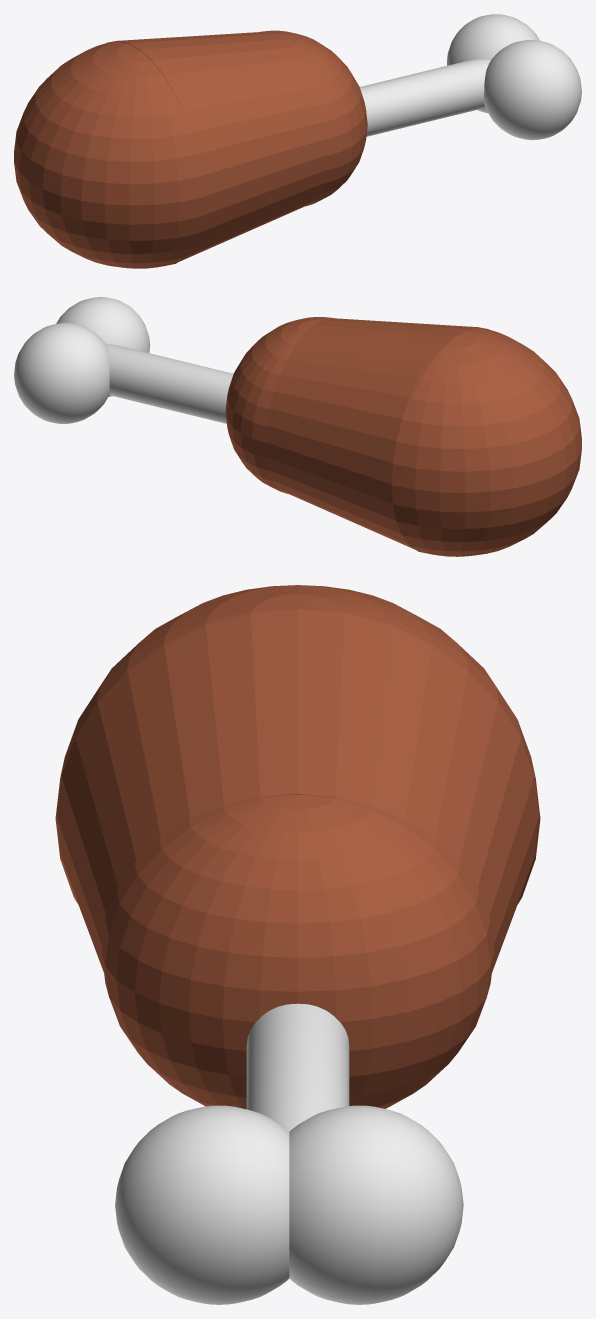
The model's file is Chicken wing.fbx.
The picture shows the model from 3 angles, top to bottom: view 1: azimuth 30°, elevation 25°; view 2: azimuth 150°, elevation 25°; view 3: azimuth 270°, elevation 25°; orthographic projection. The views are drawn at different scales.
Parts seen in each view (by area): view 1: Sphere.003, Cylinder.001, Sphere, Sphere.002, Cylinder, Sphere.001; view 2: Sphere.003, Cylinder.001, Sphere.001, Sphere.002, Cylinder, Sphere; view 3: Cylinder.001, Sphere.002, Sphere, Sphere.001, Cylinder, Sphere.003.
Part boxes in pixels (left/top/right/bottom): Sphere.003: left=14, top=41, right=202, bottom=268; Cylinder.001: left=107, top=32, right=327, bottom=261; Sphere: left=484, top=40, right=581, bottom=140; Sphere.002: left=260, top=30, right=367, bottom=206; Cylinder: left=359, top=59, right=490, bottom=136; Sphere.001: left=446, top=14, right=539, bottom=113; Sphere.003: left=391, top=327, right=581, bottom=556; Cylinder.001: left=265, top=318, right=488, bottom=549; Sphere.001: left=14, top=323, right=109, bottom=423; Sphere.002: left=225, top=317, right=333, bottom=493; Cylinder: left=106, top=344, right=233, bottom=423; Sphere: left=56, top=297, right=150, bottom=396; Cylinder.001: left=56, top=609, right=539, bottom=972; Sphere.002: left=101, top=794, right=494, bottom=1109; Sphere: left=115, top=1105, right=289, bottom=1304; Sphere.001: left=289, top=1105, right=463, bottom=1304; Cylinder: left=246, top=1003, right=349, bottom=1131; Sphere.003: left=55, top=585, right=540, bottom=904.
Bounding box in the file's own units: 286 × 108 × 114.
